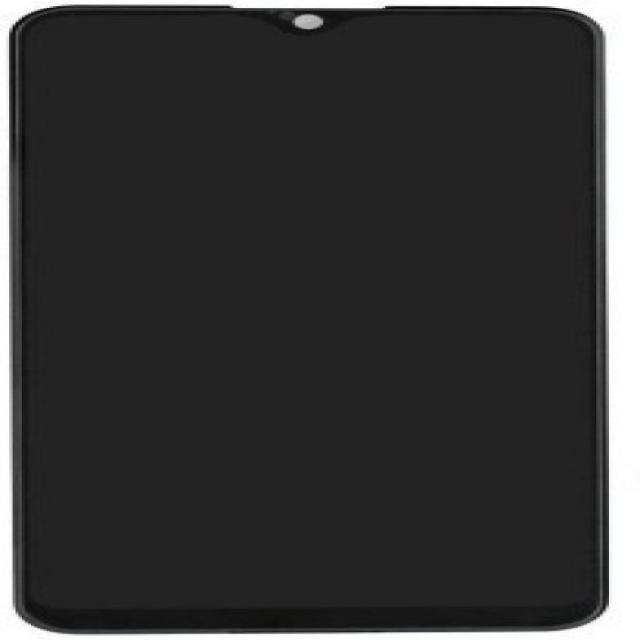mobile phone: (8, 3, 609, 634)
